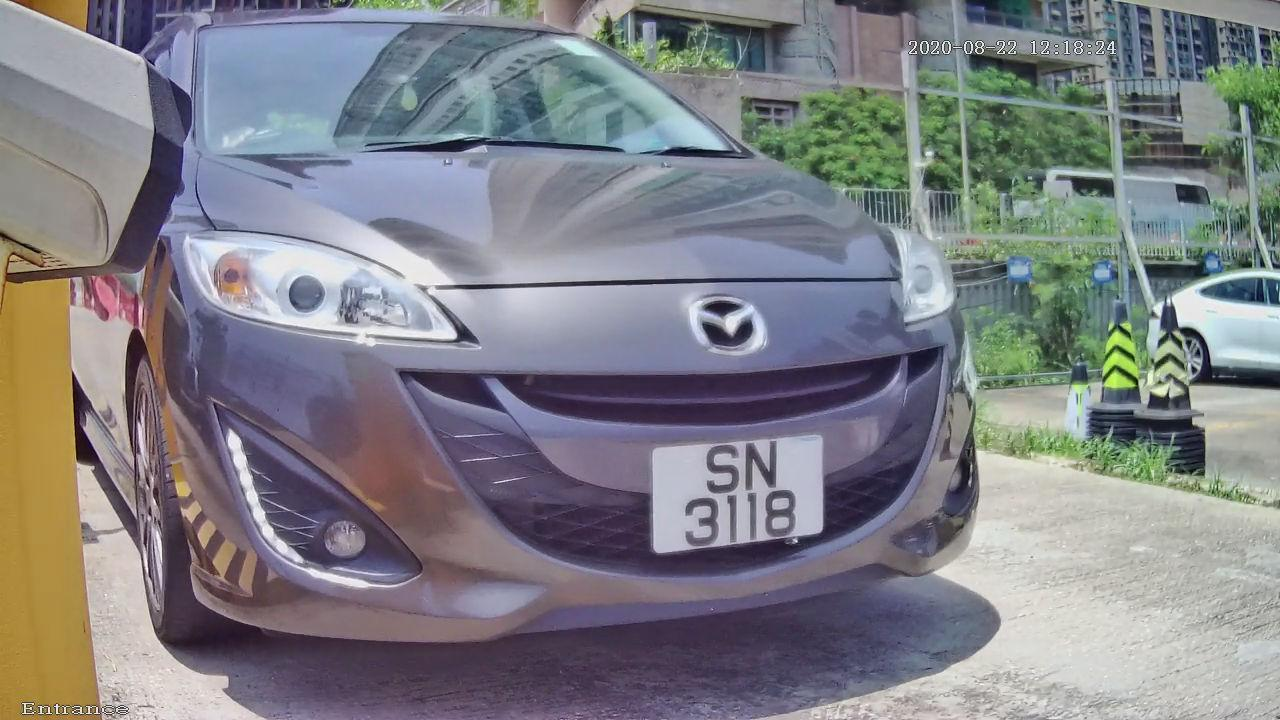Car: (69, 4, 1041, 698)
License Plate: (627, 404, 845, 589)
